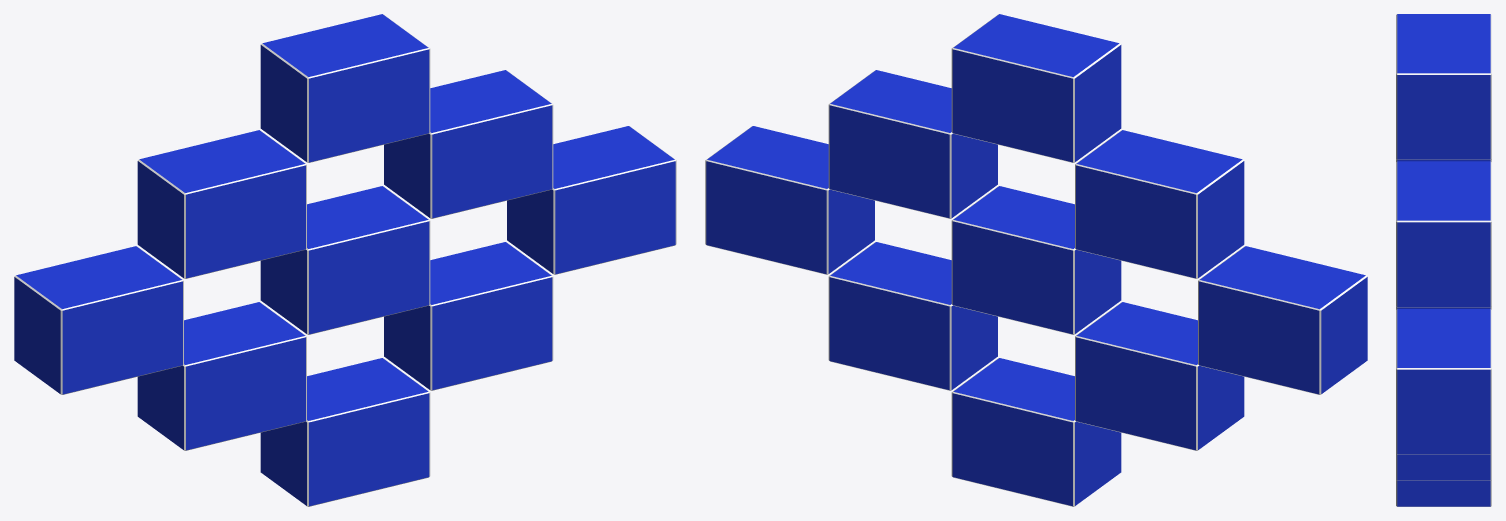
File: kv_insight.glb
3 renders of one model, left to right at view 1: azimuth 30°, elevation 25°; view 2: azimuth 150°, elevation 25°; view 3: azimuth 270°, elevation 25°, orthographic.
Parts seen in each view (by area): view 1: Insight; view 2: Insight; view 3: Insight.
Part boxes in pixels (left/top/right/bottom): Insight: left=14, top=14, right=676, bottom=506; Insight: left=705, top=14, right=1367, bottom=506; Insight: left=1396, top=14, right=1491, bottom=506.
Size of the model in its own units: 9 by 6 by 1.2.
